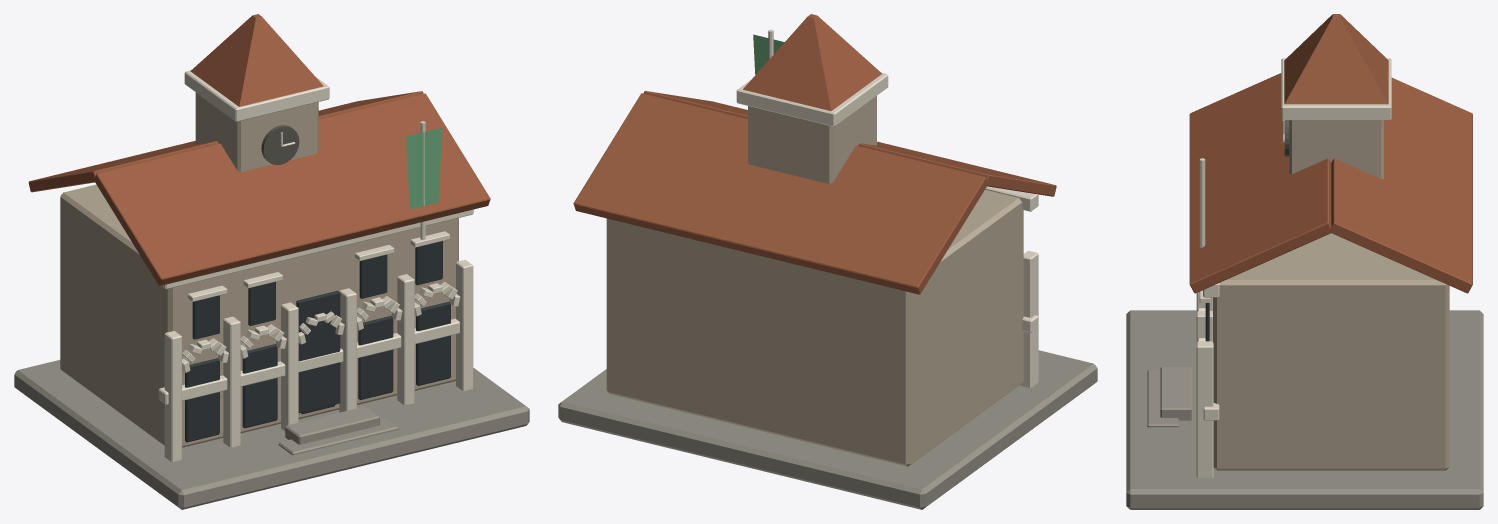
The model's file is edificio-center-e3-CvKDAUoL.glb.
3 renders of one model, left to right at view 1: azimuth 30°, elevation 25°; view 2: azimuth 150°, elevation 25°; view 3: azimuth 270°, elevation 25°, orthographic. The views are drawn at different scales.
Visible parts, largest first — view 1: centro_e3_mamposteria, centro_e3_cubierta_detalles, centro_e3_estructura, centro_e3_team_color; view 2: centro_e3_mamposteria, centro_e3_cubierta_detalles, centro_e3_estructura; view 3: centro_e3_mamposteria, centro_e3_cubierta_detalles, centro_e3_estructura.
Part boxes in pixels (<box>): centro_e3_mamposteria: <box>14,92,529,509</box>; centro_e3_cubierta_detalles: <box>28,14,490,442</box>; centro_e3_estructura: <box>158,70,473,461</box>; centro_e3_team_color: <box>406,128,442,209</box>; centro_e3_mamposteria: <box>558,96,1097,509</box>; centro_e3_cubierta_detalles: <box>573,14,1056,294</box>; centro_e3_estructura: <box>736,29,1038,387</box>; centro_e3_mamposteria: <box>1126,120,1483,509</box>; centro_e3_cubierta_detalles: <box>1189,14,1472,341</box>; centro_e3_estructura: <box>1196,58,1391,477</box>.
Bounding box in the file's own units: 82 × 85 × 68.
